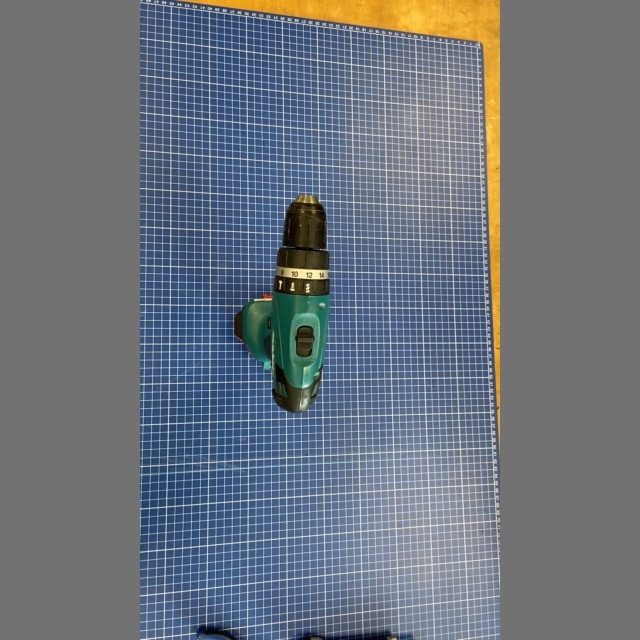drill: (231, 191, 332, 415)
